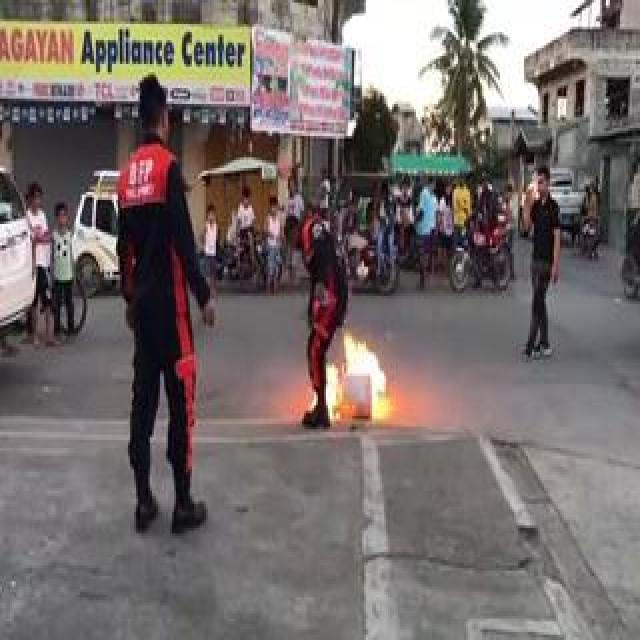Smoke: (304, 320, 394, 432)
